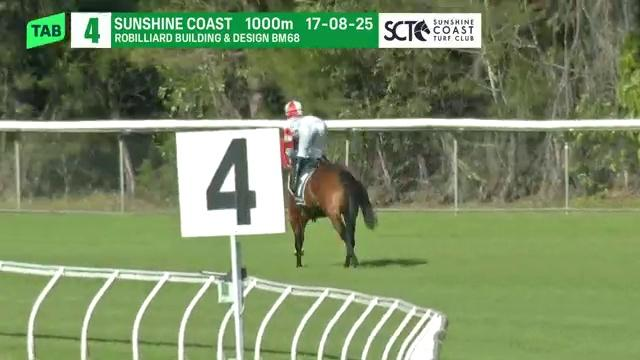racing-horse: (258, 97, 382, 274)
